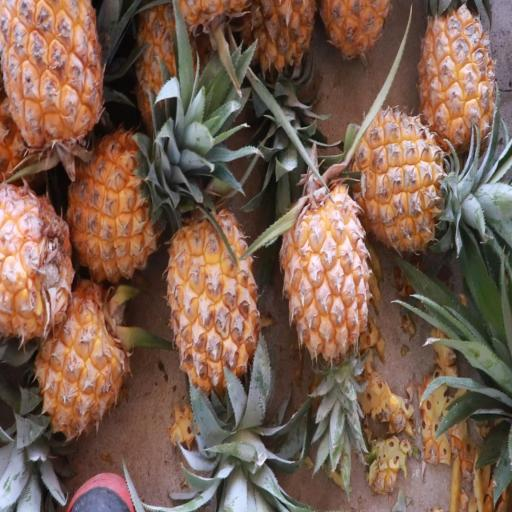Pineapple - v8 v1: (278, 165, 376, 369), (163, 204, 261, 407), (34, 272, 138, 441), (352, 104, 458, 261), (0, 0, 107, 155), (67, 122, 162, 288), (417, 0, 498, 160), (0, 178, 75, 344)
